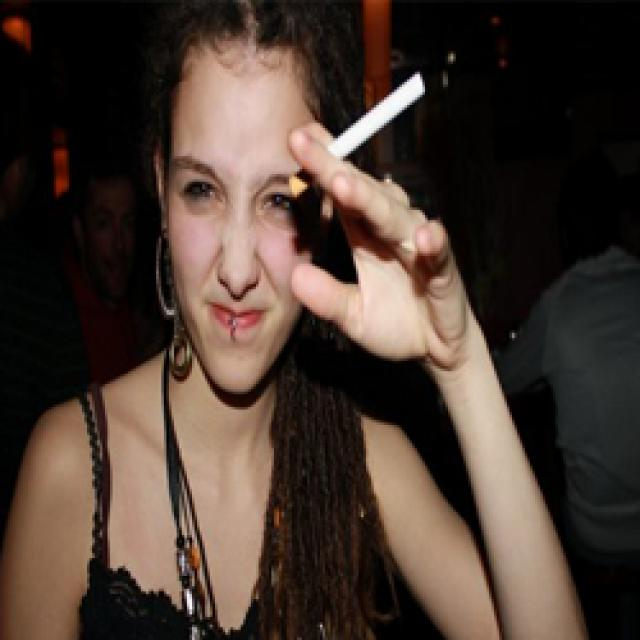Smooking: (286, 67, 436, 155)
